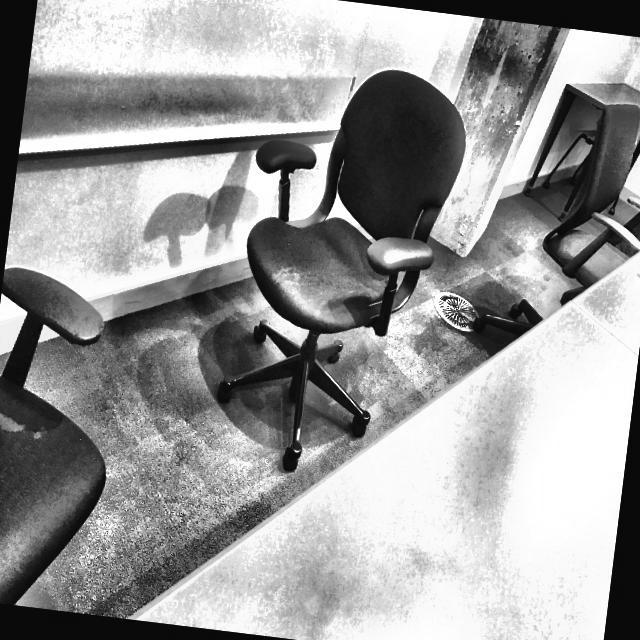chair: (207, 52, 472, 489)
